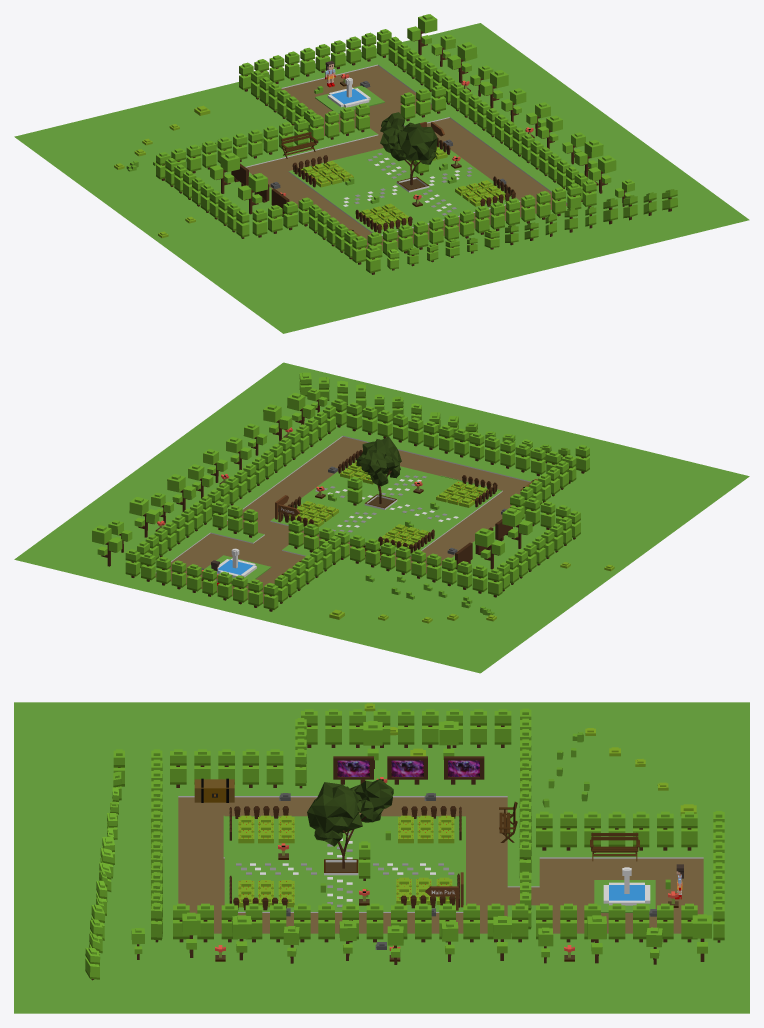
File: portfolio.glb
3 renders of one model, top to bottom at view 1: azimuth 30°, elevation 25°; view 2: azimuth 150°, elevation 25°; view 3: azimuth 270°, elevation 25°, orthographic. The views are drawn at different scales.
Visible parts, largest first — view 1: Level; view 2: Level; view 3: Level, Project2, Project3, Project, chest.
Part boxes in pixels (<box>): Level: <box>14,14,749,333</box>; Level: <box>14,362,749,673</box>; Level: <box>14,702,749,1013</box>; Project2: <box>387,756,427,784</box>; Project3: <box>444,756,484,784</box>; Project: <box>333,756,373,784</box>; chest: <box>194,778,234,802</box>.
Size of what is drawn, in the model's own units: 92.84 by 12.45 by 92.84.
Materials: 38 (1 with a texture image).
